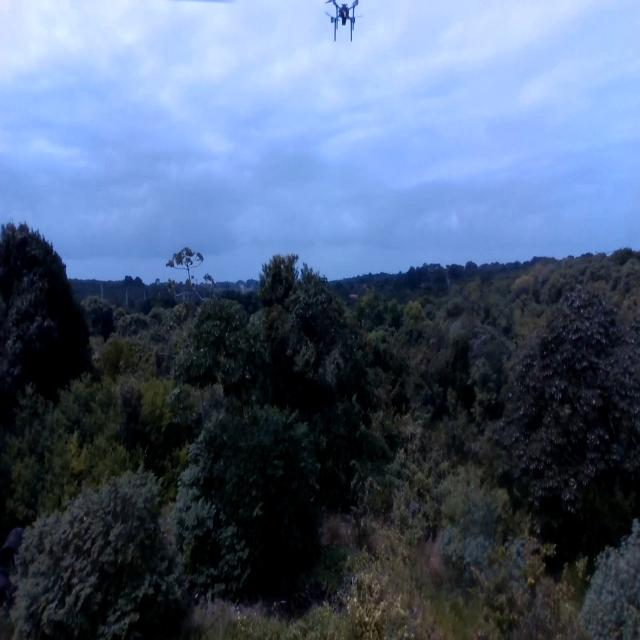-uav-: (315, 0, 369, 56)
